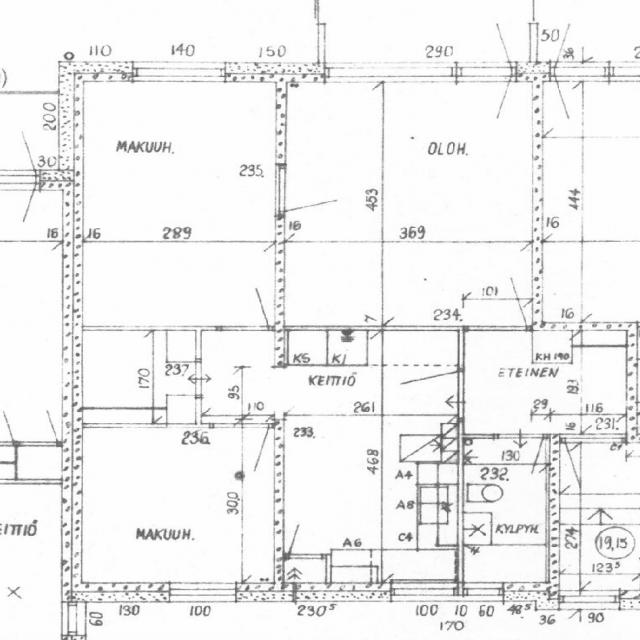door: (564, 434, 622, 491), (274, 367, 342, 414), (467, 278, 526, 330), (461, 21, 511, 81), (461, 62, 511, 122), (400, 371, 462, 417), (274, 168, 338, 211), (213, 423, 268, 473), (221, 288, 268, 330), (497, 434, 543, 476), (288, 527, 322, 558)
